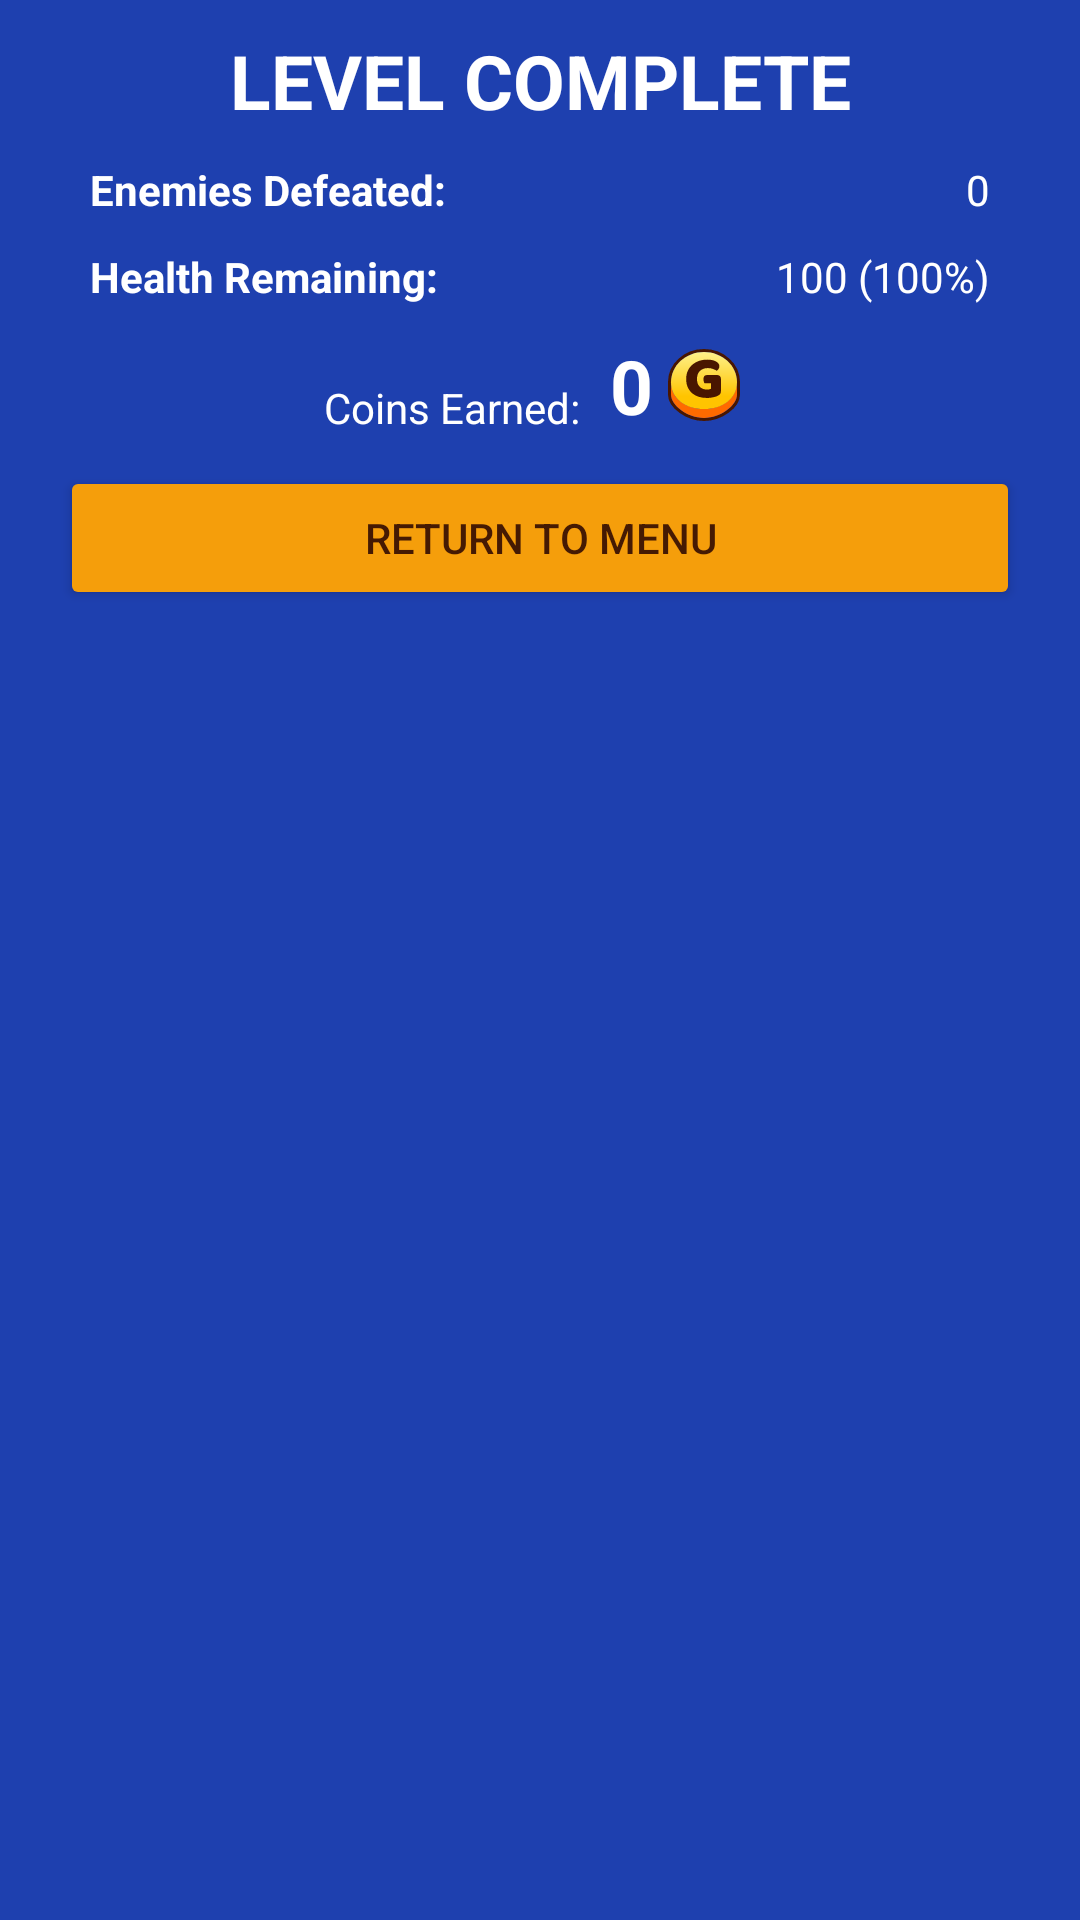

Icons on this 1080x1920 Android screen, each with its box as [x1=x1, y1=y1, x2=x2, y2=y2]:
gold: [x1=668, y1=349, x2=740, y2=421]
